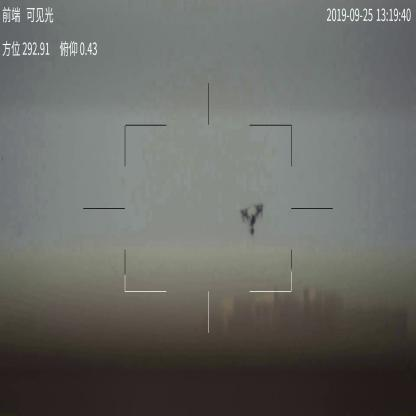uav: (238, 205, 264, 236)
